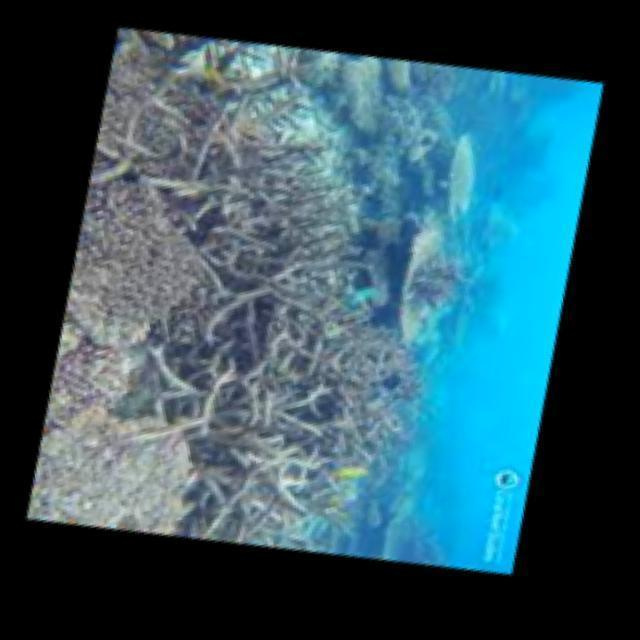Dead Coral: (107, 52, 389, 335), (201, 266, 465, 502), (7, 363, 262, 578), (59, 163, 222, 362)
